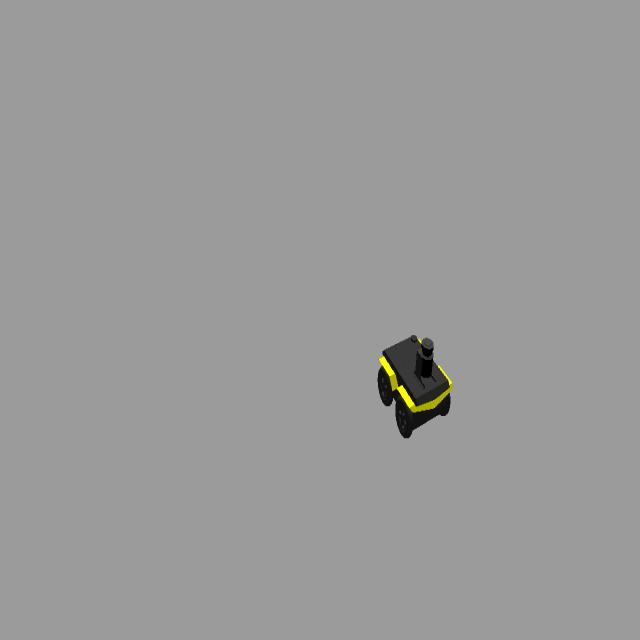jackal: (378, 331, 451, 440)
